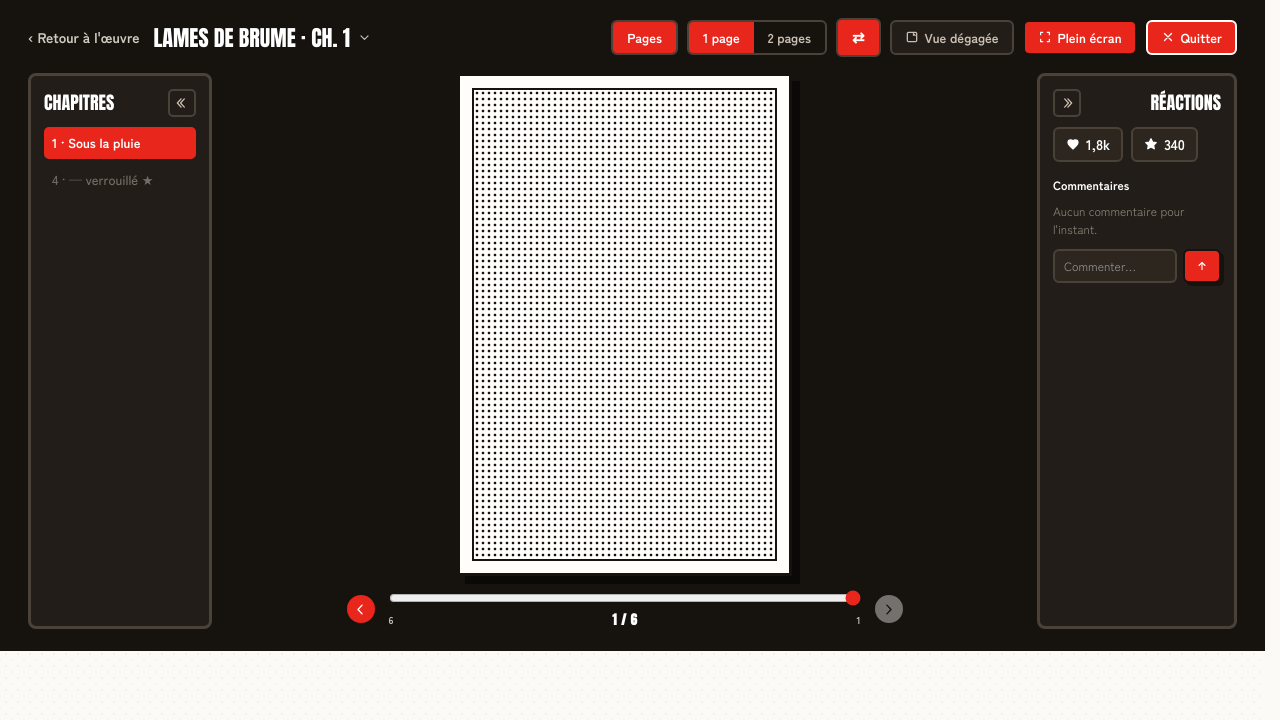
Reader (DR-4 FE-1) › "Vue dégagée" (Studio clear-view toggle) › collapses both asides while keeping the topbar chrome visible, and restores them on a second click
The image size is (1280, 720).
Expected: the button "1 · Sous la pluie" is shown, 44,126 -> 196,158
Click the button "Vue dégagée": x=952, y=37 890,20 -> 1014,55
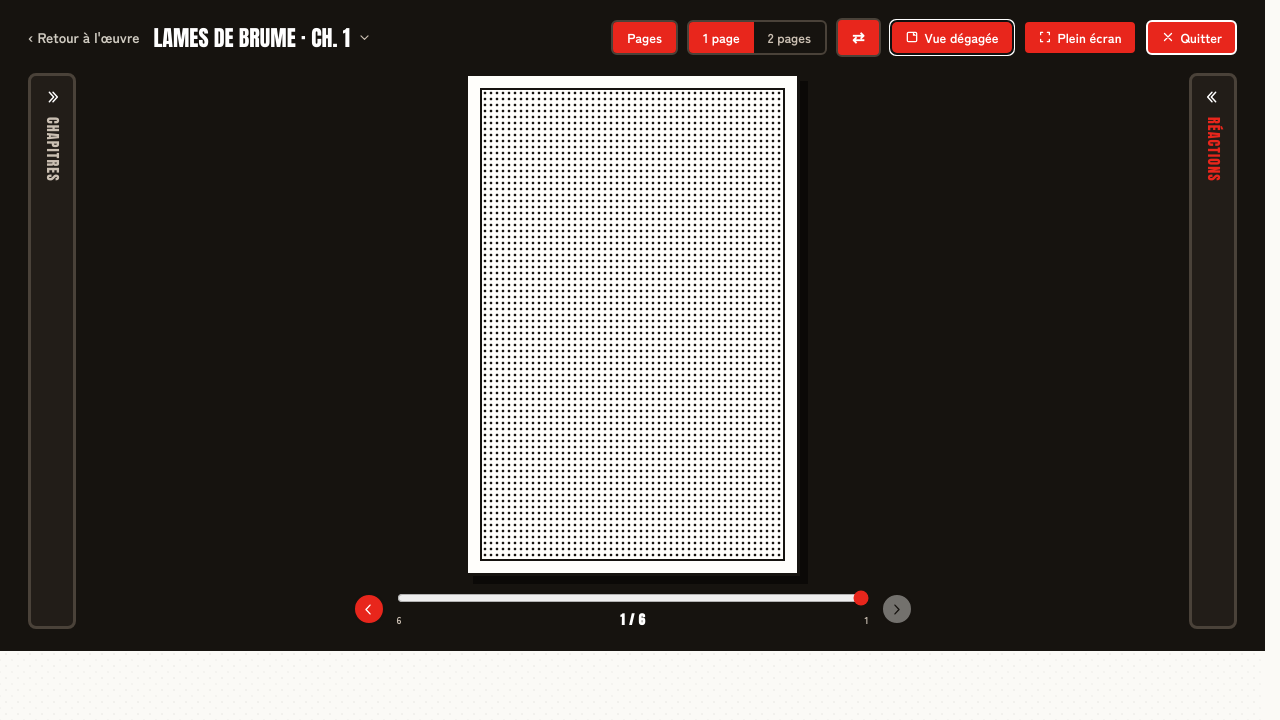
Expected: the link "‹ Retour à l'œuvre" is shown, 28,27 -> 140,48
Now the button "1 · Sous la pluie" is gone
Now the number of buttons named "Développer" is 2, box 44,88 -> 60,181; 1205,88 -> 1221,181
Click the button "Vue dégagée": x=952, y=37 890,20 -> 1014,55
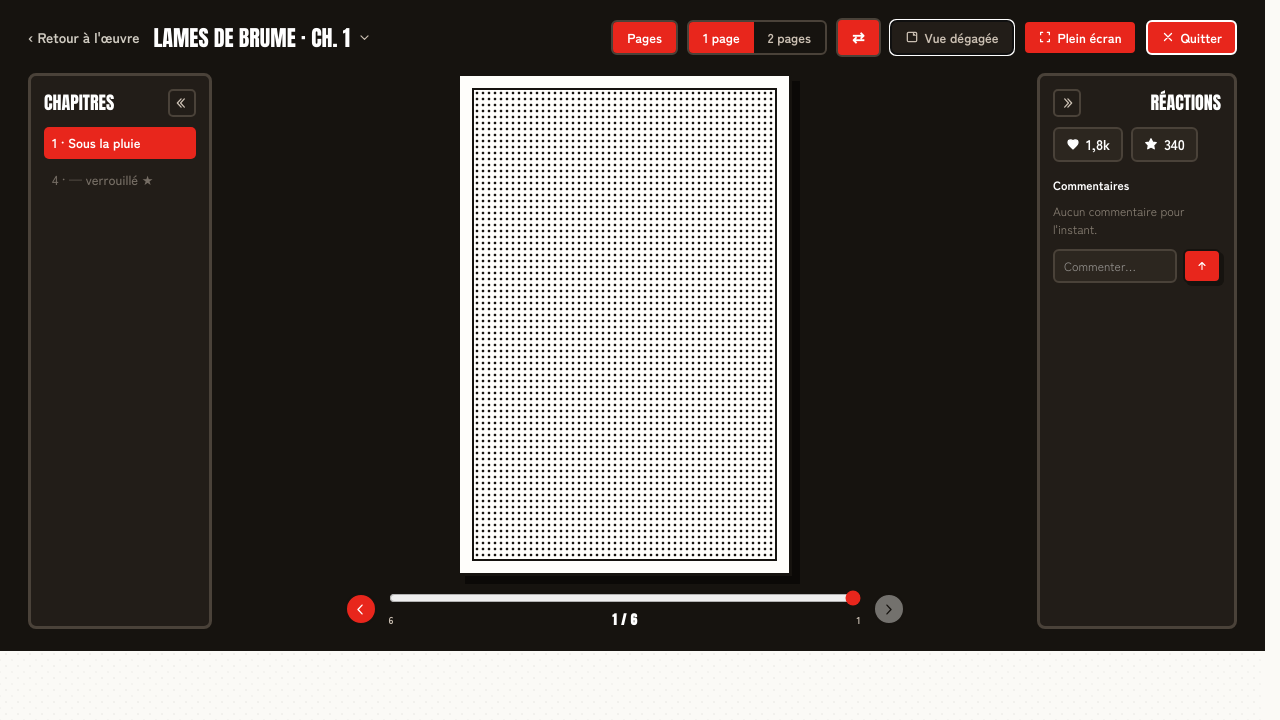
Now the button "1 · Sous la pluie" is shown, box 44,126 -> 196,158
Now the button "Développer" is gone
